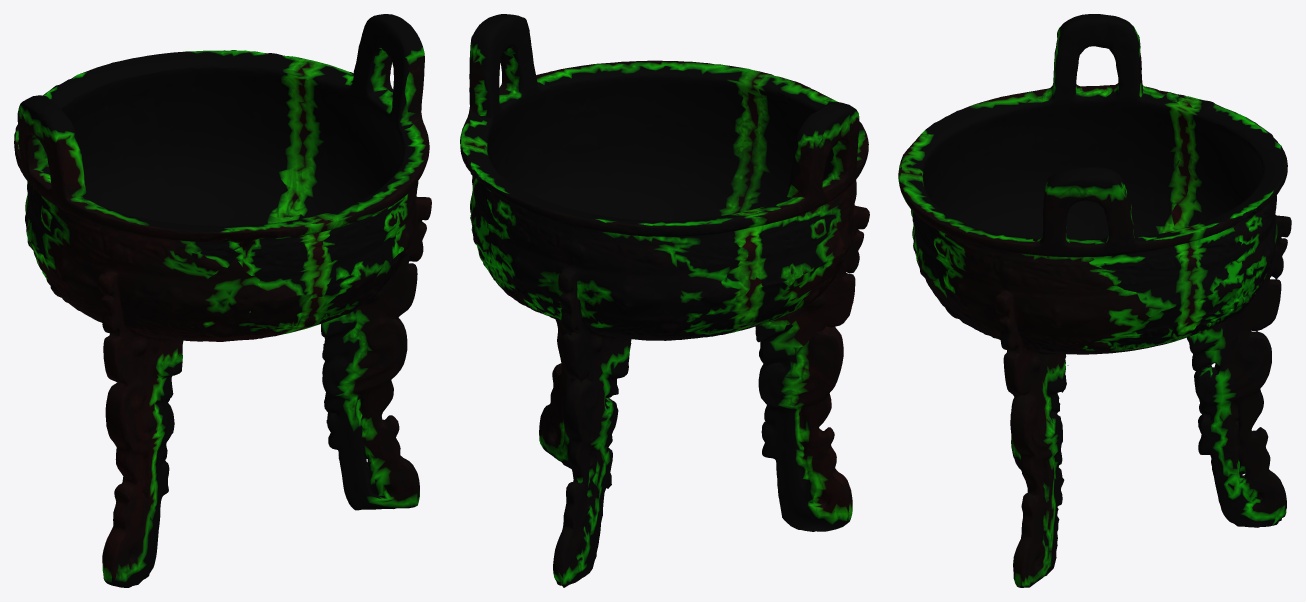
3 views of the same model, side by side, from view 1: azimuth 30°, elevation 25°; view 2: azimuth 150°, elevation 25°; view 3: azimuth 270°, elevation 25° (orthographic). The views are drawn at different scales.
Parts seen in each view (by area): view 1: ding_west_zhou; view 2: ding_west_zhou; view 3: ding_west_zhou.
Part boxes in pixels (x1,y1,x2,y2): ding_west_zhou: (14, 14, 431, 587); ding_west_zhou: (460, 14, 869, 587); ding_west_zhou: (898, 14, 1291, 587).
Bounding box in the file's own units: 0.1633 × 0.1977 × 0.1614.
Materials: 1 (1 with a texture image).
